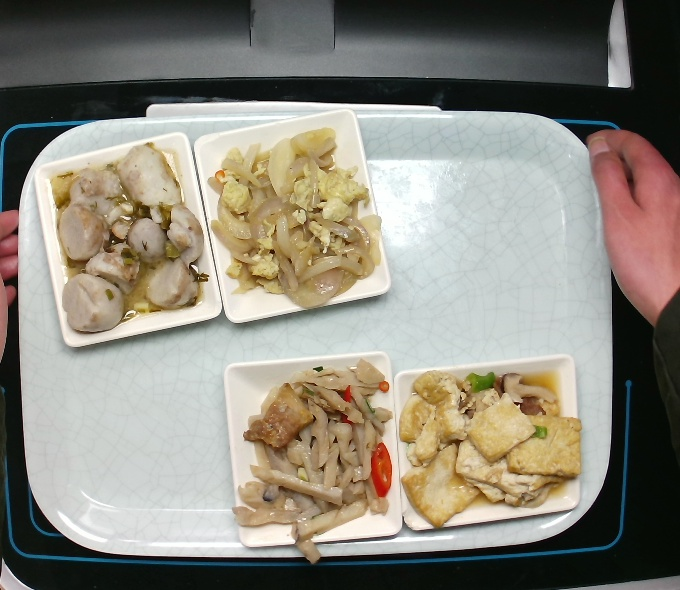wcq-JiaChangDouFu: (401, 372, 591, 528)
wcq-QingChaoOuPian: (230, 362, 400, 562)
wcq-YangCongChaoDan: (208, 127, 390, 313)
wcq-YangYu: (52, 135, 207, 334)
